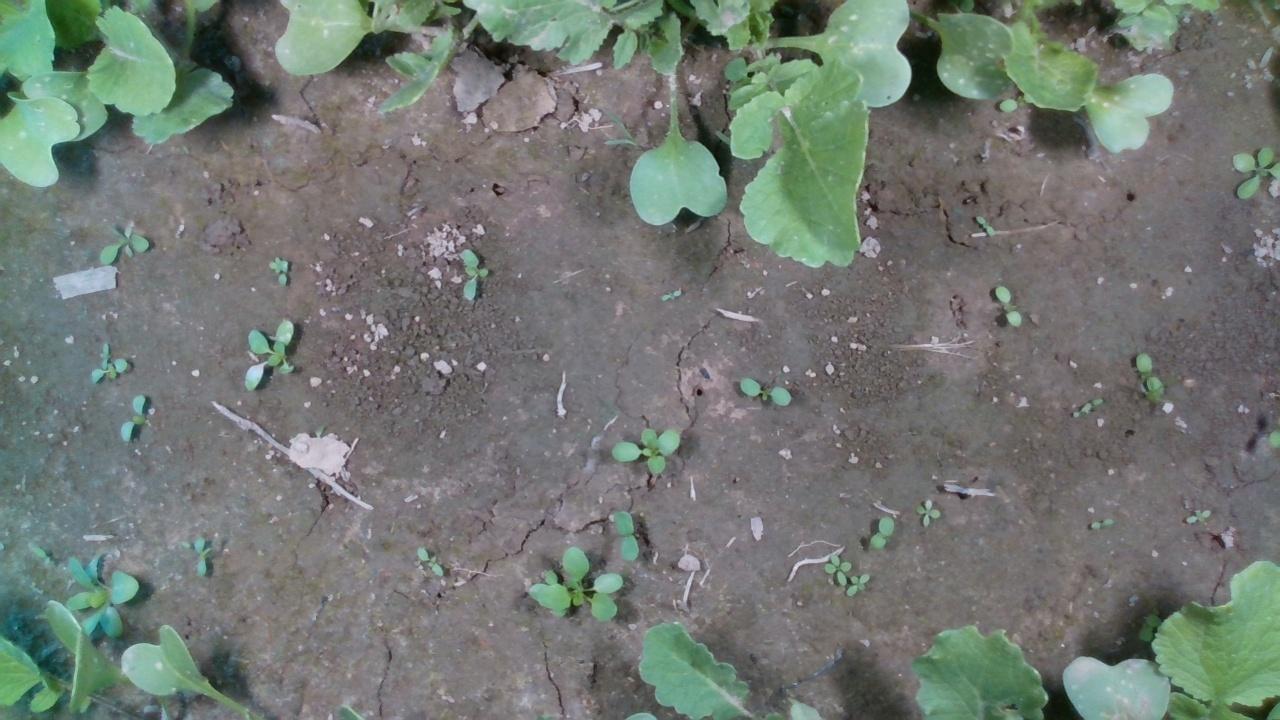weed: (610, 425, 680, 476), (98, 221, 153, 264), (738, 375, 794, 406), (117, 391, 148, 446), (611, 510, 641, 565), (992, 285, 1024, 330), (866, 515, 896, 555), (915, 497, 943, 527), (192, 534, 208, 578), (1182, 508, 1213, 526), (972, 214, 995, 238), (1086, 516, 1117, 532)
